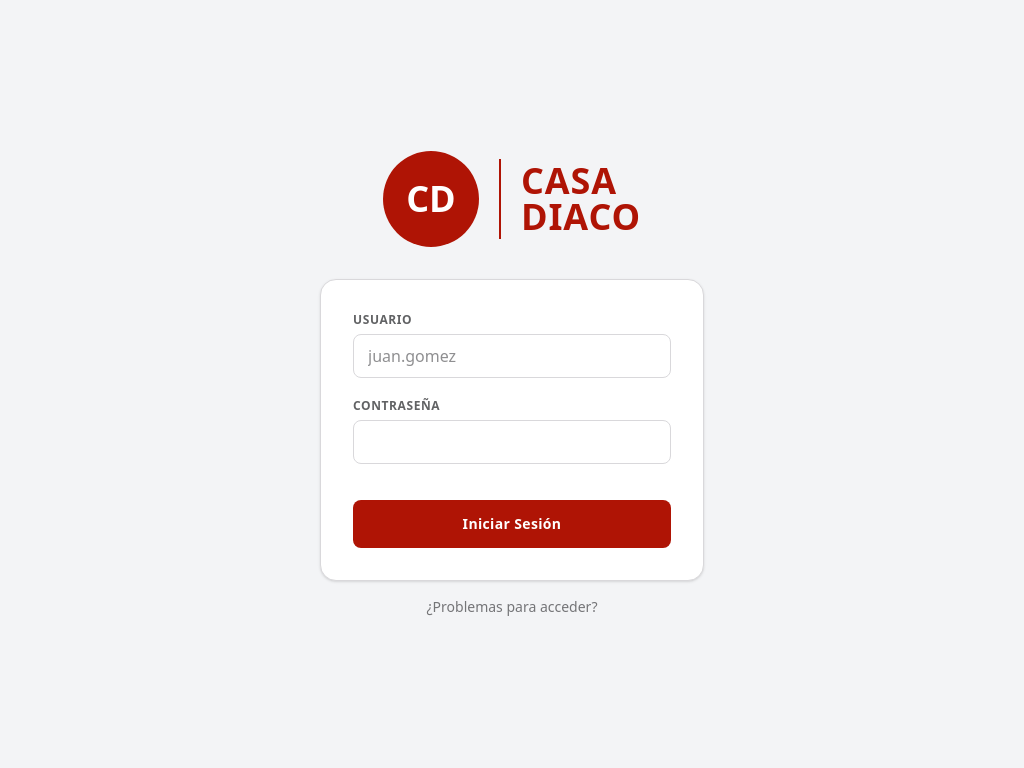
Test case: App › shows the app layout after a successful login
This screenshot has width=1024, height=768.
Type "ada" into the field labelled "Usuario" at (512, 356), box [353,334,671,378]
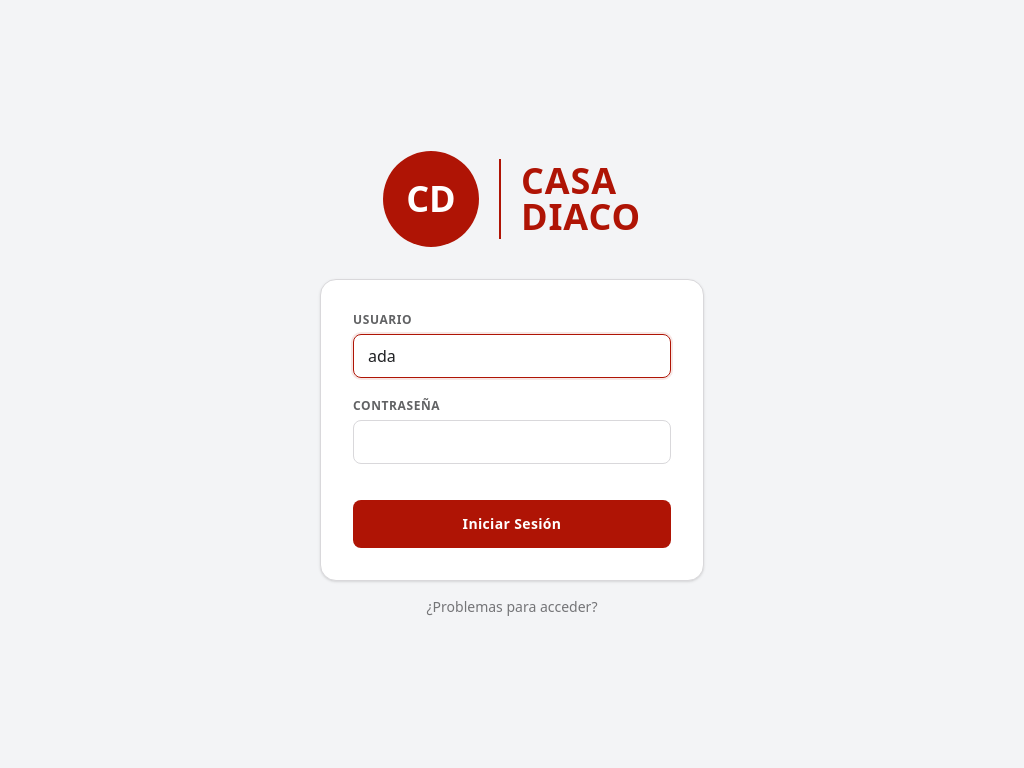
Type "secreta" into the password field labelled "Contraseña" at (512, 442), box [353,420,671,464]
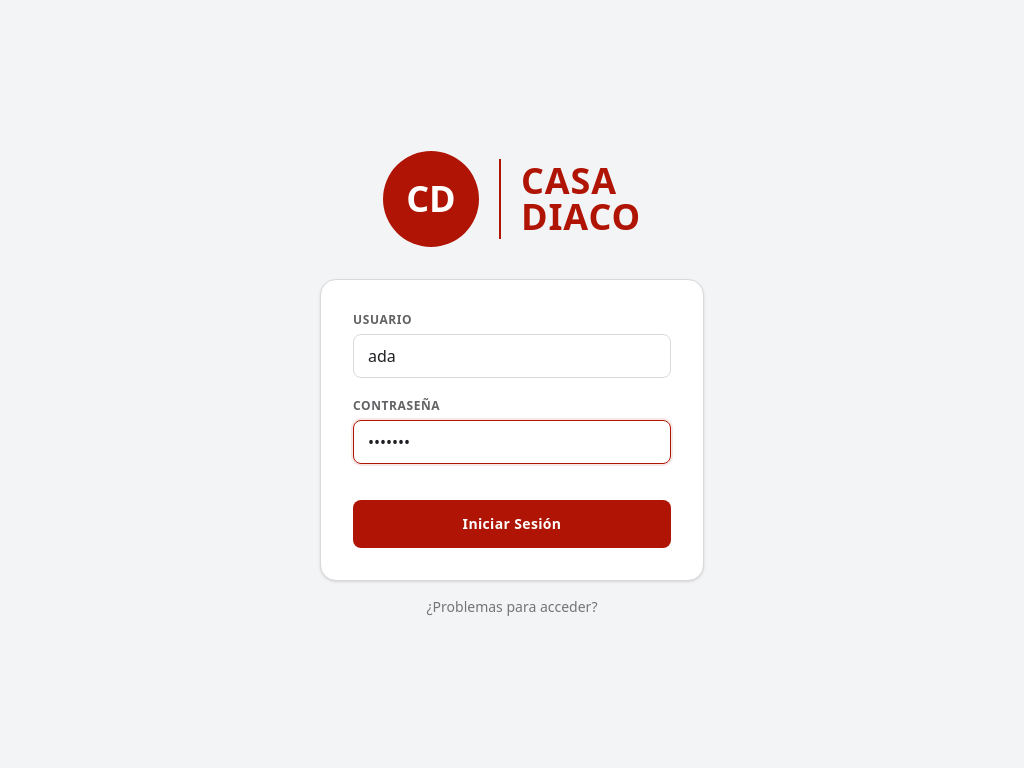
Click the button "Iniciar Sesión" at (512, 524), box [353,500,671,548]
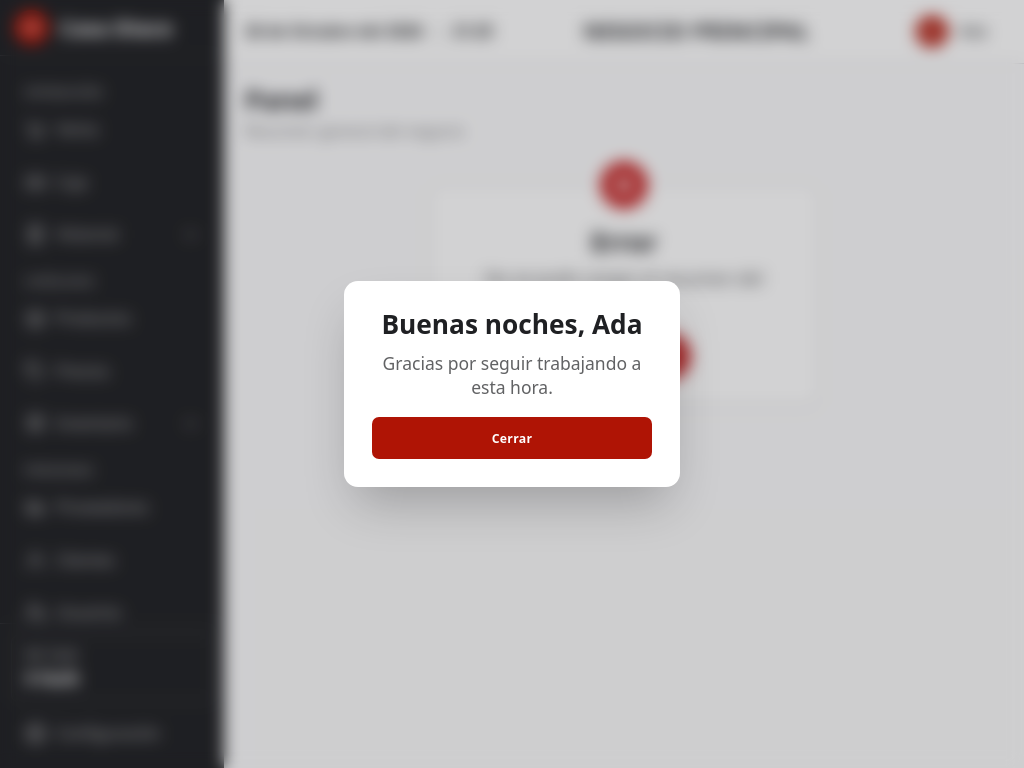
Expected: the text "Ada" is shown, [958,19,987,44]
Click the button "AL Ada" at (952, 32), box [900,7,1003,56]
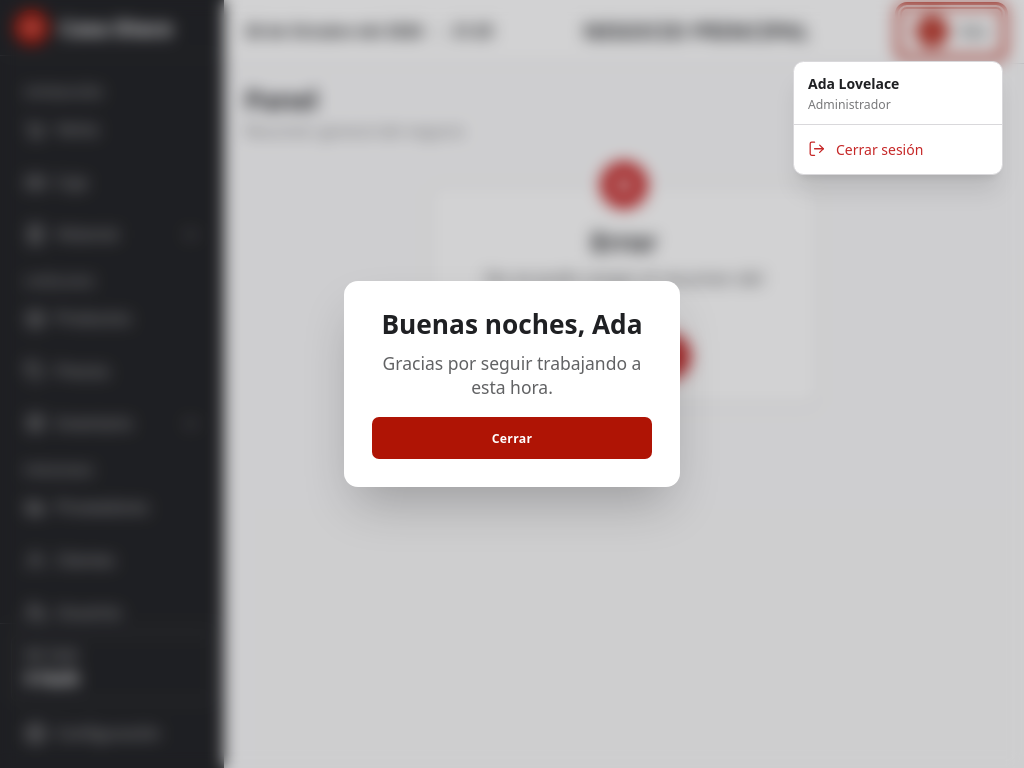
Expected: the button "Cerrar sesión" is shown, [794,124,1002,174]
